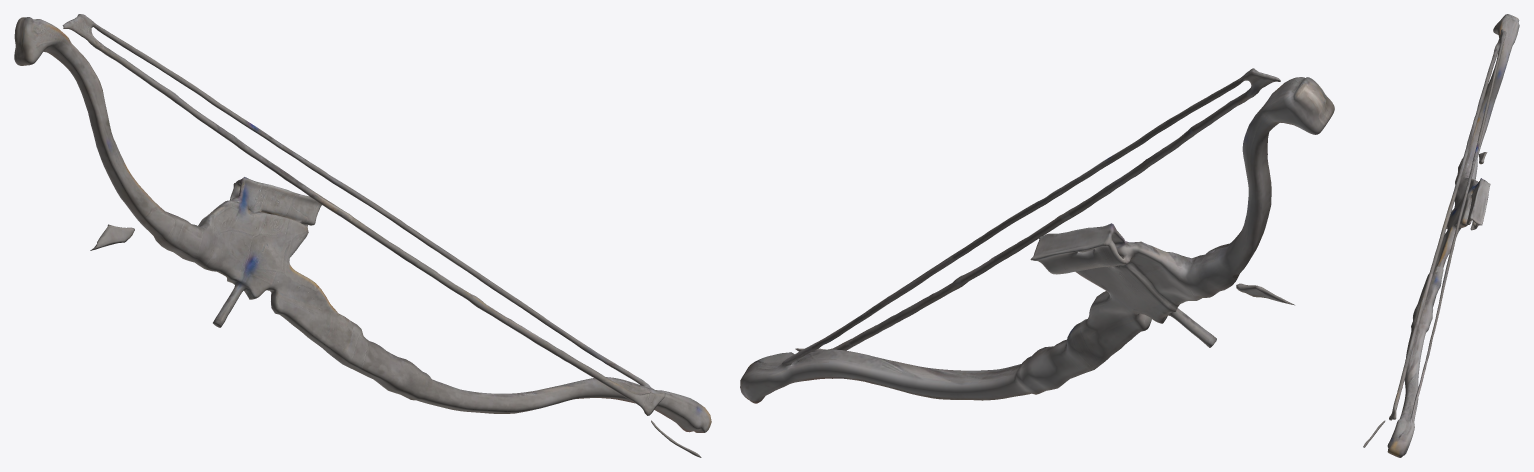
The model's file is Oak Bow.glb.
The picture shows the model from 3 angles, left to right: view 1: azimuth 30°, elevation 25°; view 2: azimuth 150°, elevation 25°; view 3: azimuth 270°, elevation 25°; orthographic projection. The views are drawn at different scales.
Visible parts, largest first — view 1: file1; view 2: file1; view 3: file1.
Part boxes in pixels (x1,y1,x2,y2): file1: (14, 14, 711, 457); file1: (740, 68, 1334, 403); file1: (1363, 14, 1519, 457).
Bounding box in the file's own units: 2 × 1.56 × 0.786.
1 material, 1 textured.
